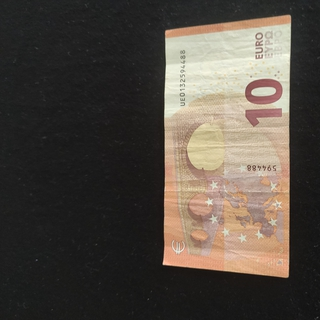10EUROBack: (162, 14, 292, 278)
